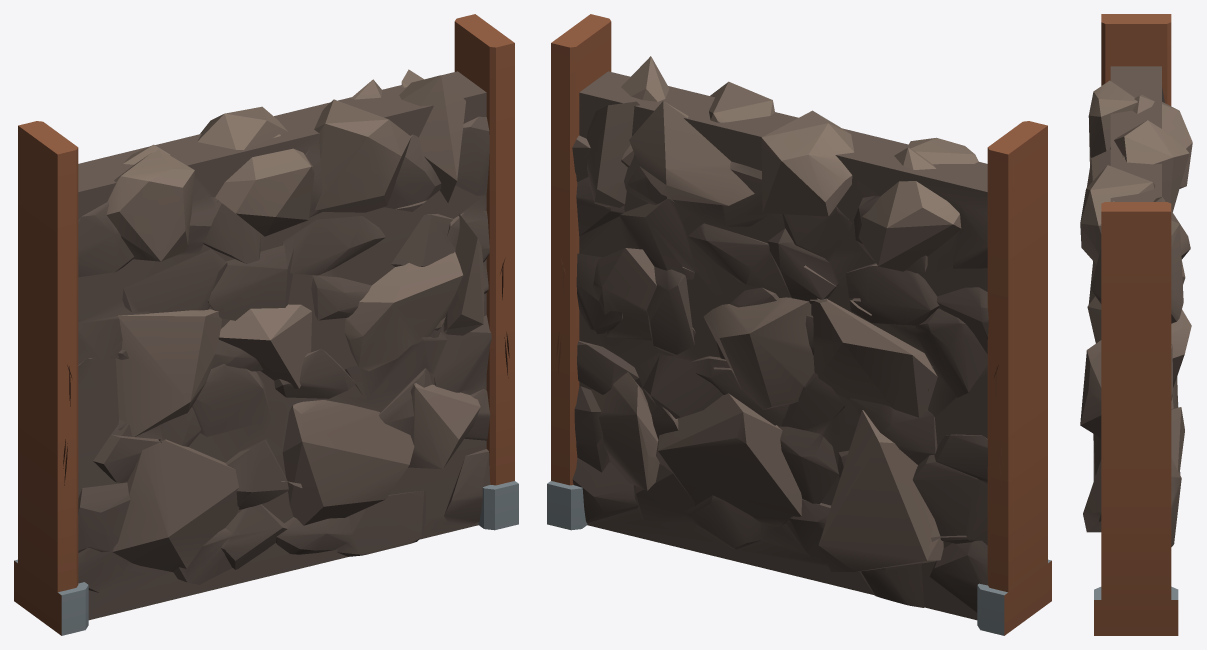
File: wall_cave_A.glb
The picture shows the model from 3 angles, left to right: view 1: azimuth 30°, elevation 25°; view 2: azimuth 150°, elevation 25°; view 3: azimuth 270°, elevation 25°; orthographic projection. The views are drawn at different scales.
Visible parts, largest first — view 1: Item; view 2: Item; view 3: Item.
Part boxes in pixels (bbox=[...]): Item: bbox=[14, 14, 518, 635]; Item: bbox=[547, 14, 1051, 635]; Item: bbox=[1080, 14, 1192, 635].
Bounding box in the file's own units: 4 × 4 × 0.9626.
Materials: 1 (1 with a texture image).
